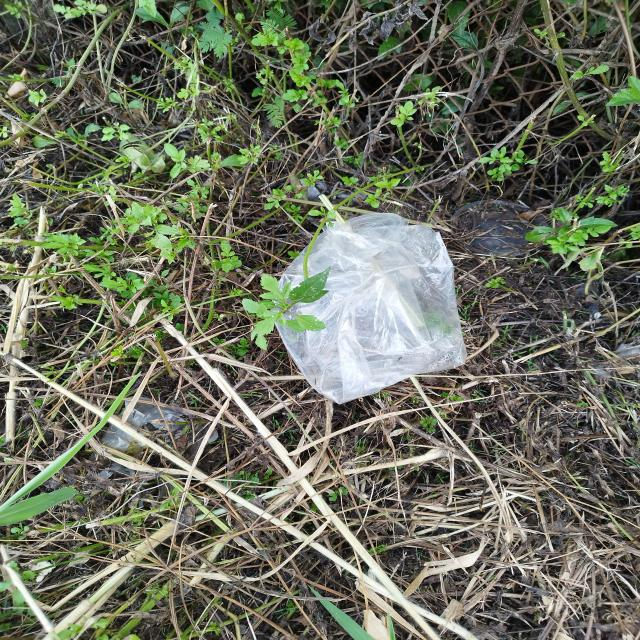bag: (270, 225, 468, 404)
lid: (454, 200, 551, 256)
